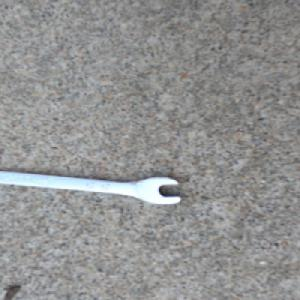Wrench: (0, 169, 184, 205)
